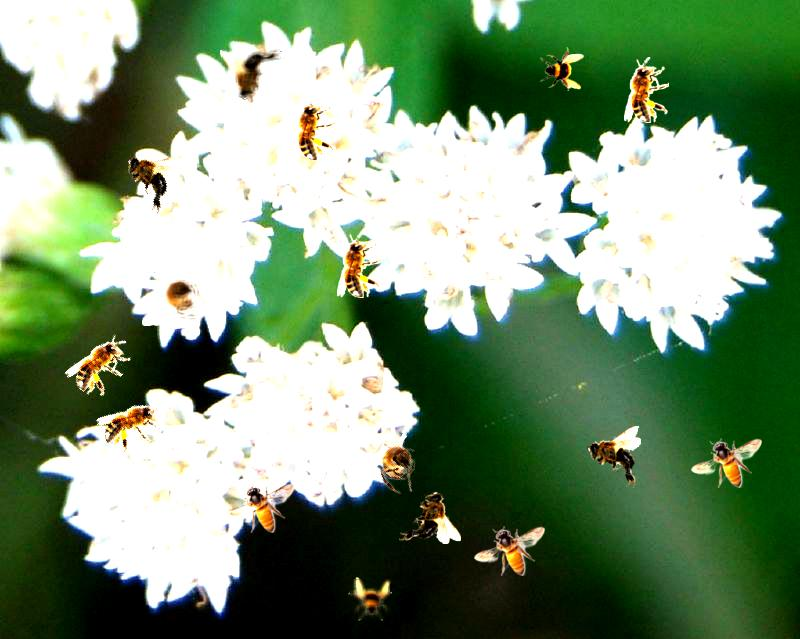Bee: (348, 413, 441, 507), (63, 324, 141, 405), (112, 137, 187, 217), (94, 388, 174, 461), (142, 265, 212, 326), (585, 423, 642, 489), (224, 483, 295, 533), (474, 526, 545, 576), (691, 438, 762, 488), (220, 47, 282, 100), (399, 491, 461, 544), (624, 57, 669, 123), (291, 95, 336, 161), (337, 232, 382, 298), (540, 47, 584, 91), (348, 577, 392, 621)
